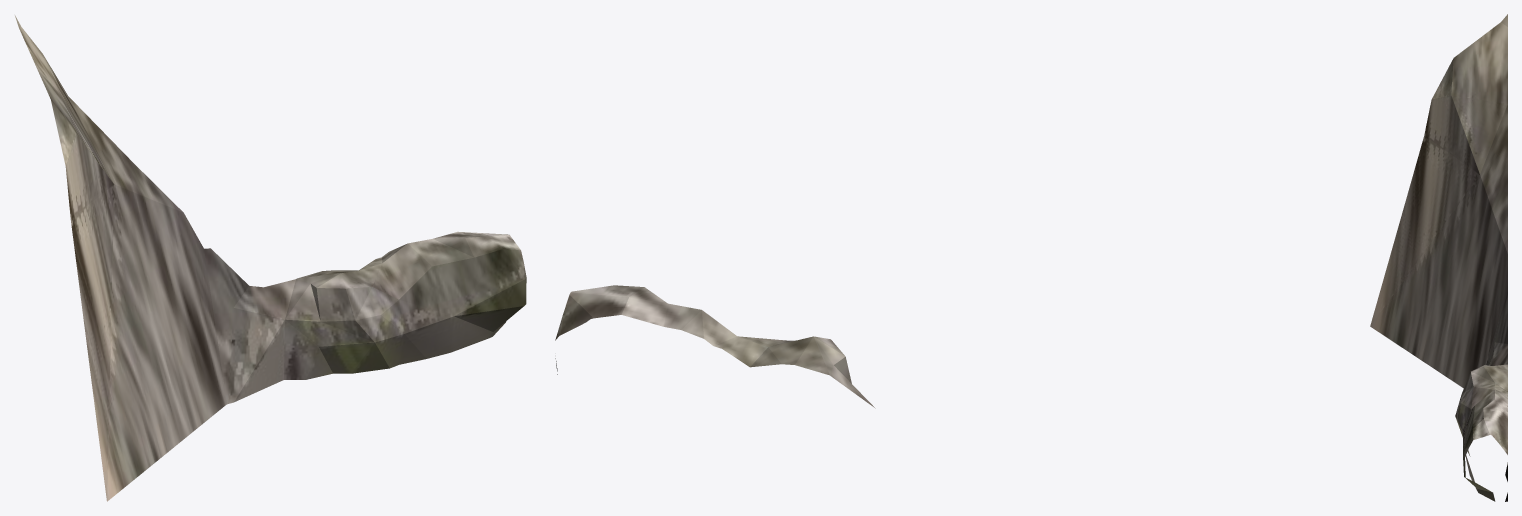
3 renders of one model, left to right at view 1: azimuth 30°, elevation 25°; view 2: azimuth 150°, elevation 25°; view 3: azimuth 270°, elevation 25°, orthographic. The views are drawn at different scales.
Size of the model in its own units: 2.95 by 2.45 by 0.9786.
Materials: 1 (1 with a texture image).
